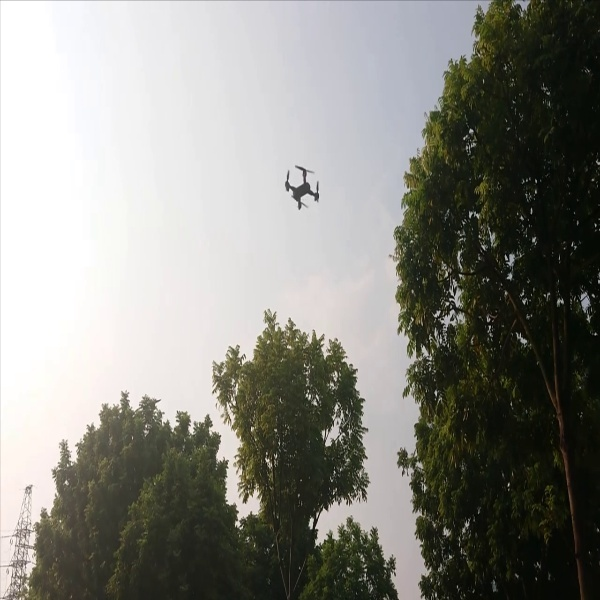drone: (268, 159, 333, 215)
